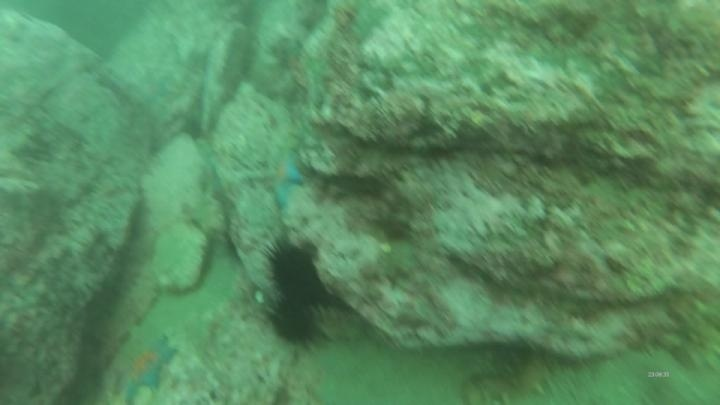echinus: (261, 236, 329, 307), (266, 295, 322, 349)
holothurian: (457, 351, 576, 405), (656, 279, 720, 372), (306, 300, 369, 348)
starfish: (112, 332, 181, 405), (264, 147, 309, 213), (133, 68, 179, 109)
